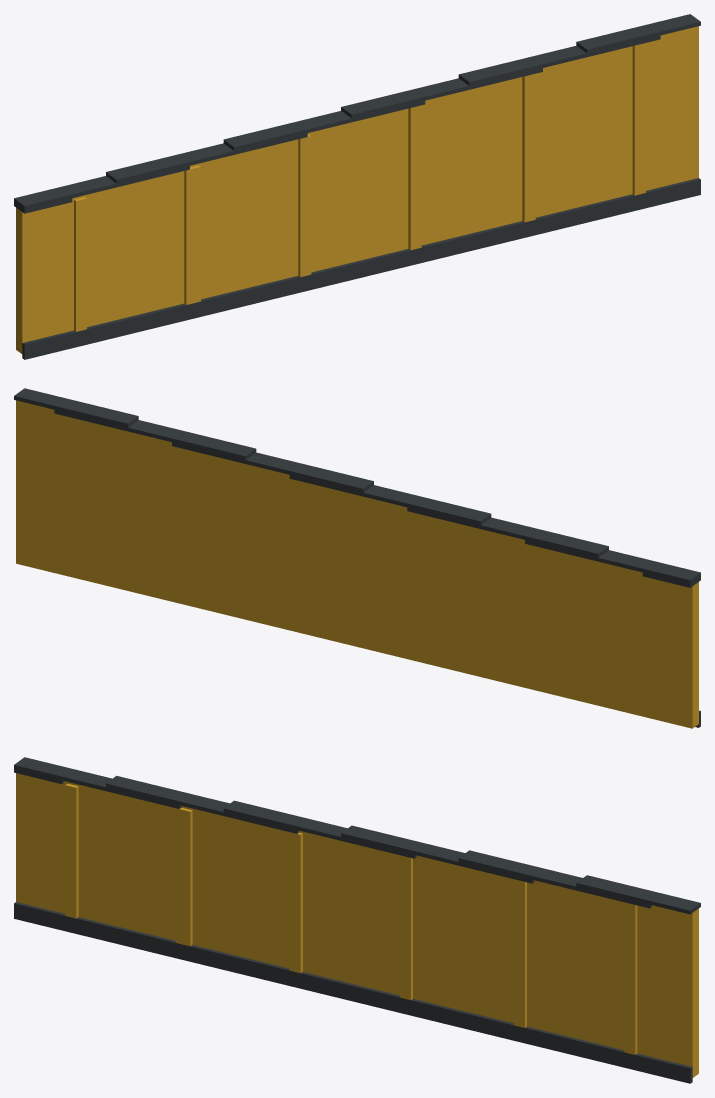
The model's file is tipper_truck_tub_side.glb.
3 renders of one model, top to bottom at view 1: azimuth 30°, elevation 25°; view 2: azimuth 150°, elevation 25°; view 3: azimuth 330°, elevation 25°, orthographic.
Visible parts, largest first — view 1: body:compound; view 2: body:compound; view 3: body:compound.
Part boxes in pixels (x1,y1,x2,y2): body:compound: (14,14,700,359); body:compound: (14,388,700,728); body:compound: (14,757,700,1083).
Bounding box in the file's own units: 5.75 × 1.41 × 0.1562.
